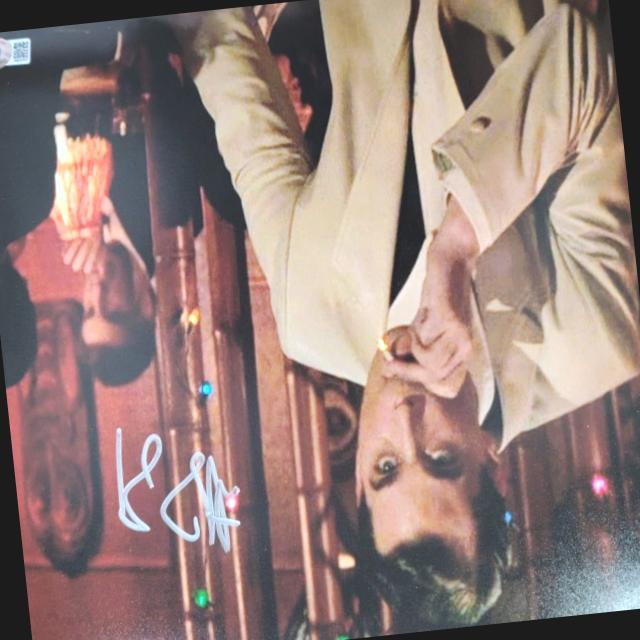smoke: (368, 326, 404, 368)
